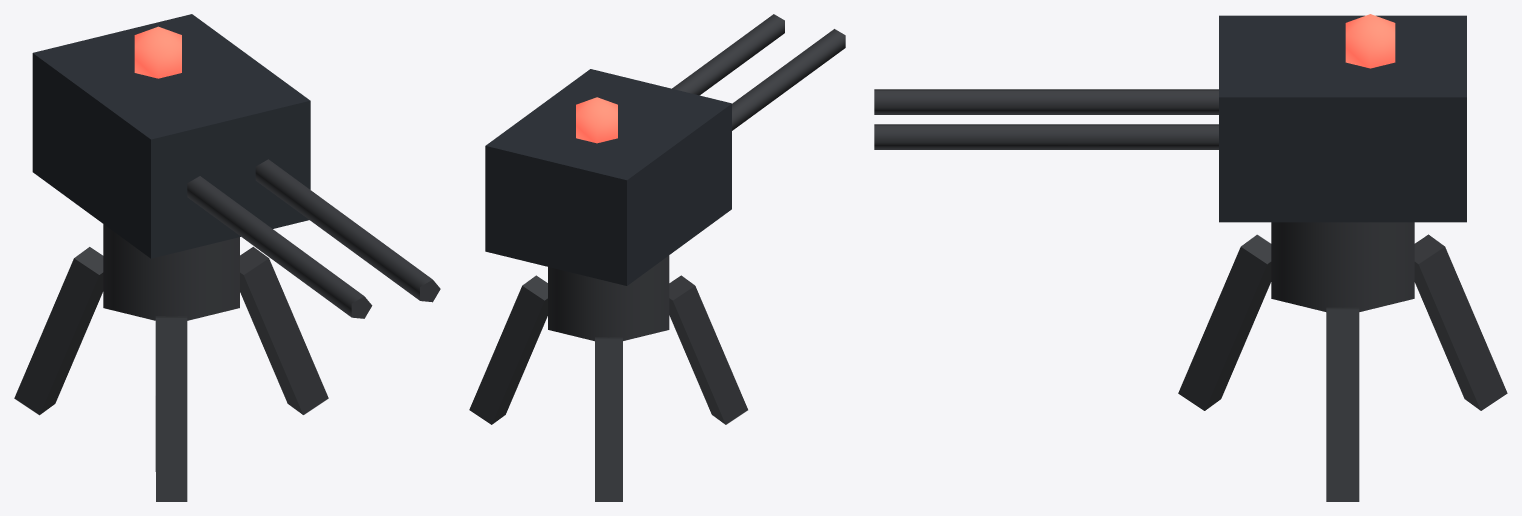
Rendered from unit_mil_sentry_a08.glb.
3 renders of one model, left to right at view 1: azimuth 30°, elevation 25°; view 2: azimuth 150°, elevation 25°; view 3: azimuth 270°, elevation 25°, orthographic. The views are drawn at different scales.
Parts seen in each view (by area): view 1: turret, body; view 2: turret, body; view 3: turret, body.
Boxes of the visible parts, x1,y1,x2,y2 form: turret: (32,14,440,318); body: (14,224,328,501); turret: (485,14,845,285); body: (469,255,747,501); turret: (874,14,1466,222); body: (1178,222,1507,501).
Size of what is drawn, in the model's own units: 1.04 by 1.69 by 2.3.
